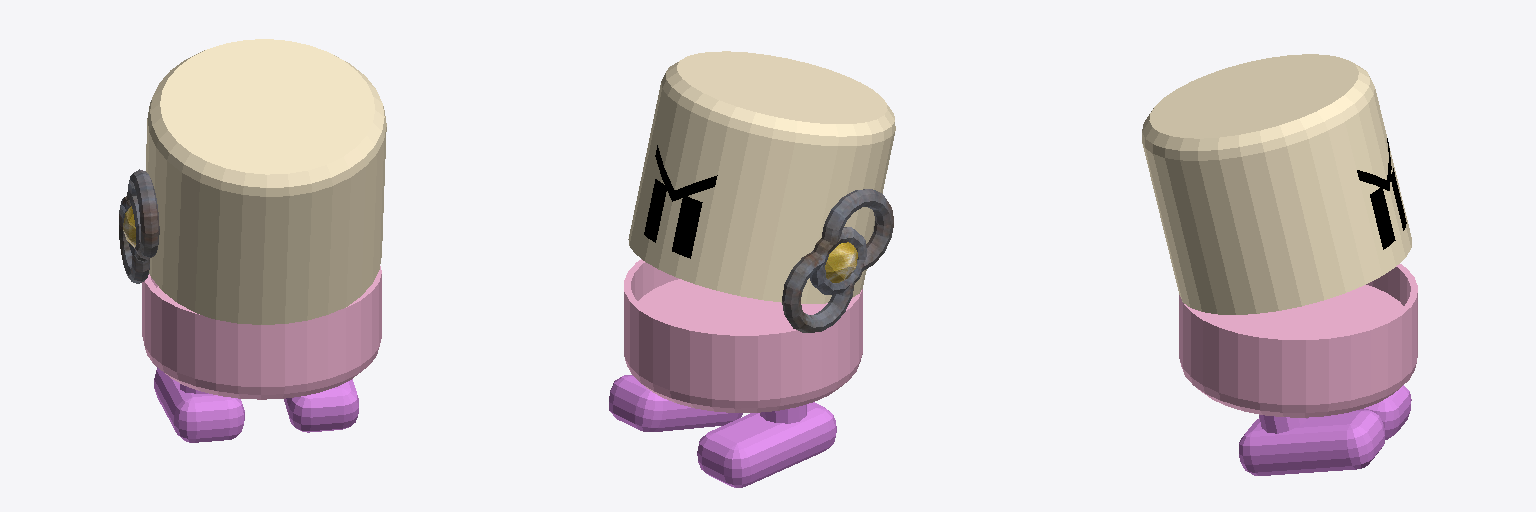
The picture shows the model from 3 angles: view 1: azimuth 30°, elevation 25°; view 2: azimuth 150°, elevation 25°; view 3: azimuth 270°, elevation 25°; orthographic projection.
Visible parts, largest first — view 1: Head, Jaw, LeftLeg, WindupKey, RightLeg; view 2: Head, Jaw, WindupKey, LeftLeg, RightLeg; view 3: Head, Jaw, RightLeg, LeftLeg.
Part boxes in pixels (bbox=[...]): Head: bbox=[146, 39, 386, 324]; Jaw: bbox=[142, 266, 381, 399]; LeftLeg: bbox=[154, 367, 244, 442]; WindupKey: bbox=[119, 169, 159, 283]; RightLeg: bbox=[284, 379, 358, 432]; Head: bbox=[628, 51, 895, 303]; Jaw: bbox=[624, 259, 862, 412]; WindupKey: bbox=[782, 189, 893, 332]; LeftLeg: bbox=[697, 402, 836, 487]; RightLeg: bbox=[609, 375, 742, 431]; Head: bbox=[1142, 54, 1411, 314]; Jaw: bbox=[1179, 264, 1417, 417]; RightLeg: bbox=[1239, 409, 1384, 475]; LeftLeg: bbox=[1360, 385, 1411, 439].
Size of the model in its own units: 115 by 168 by 115.
Materials: 6 (2 with a texture image).